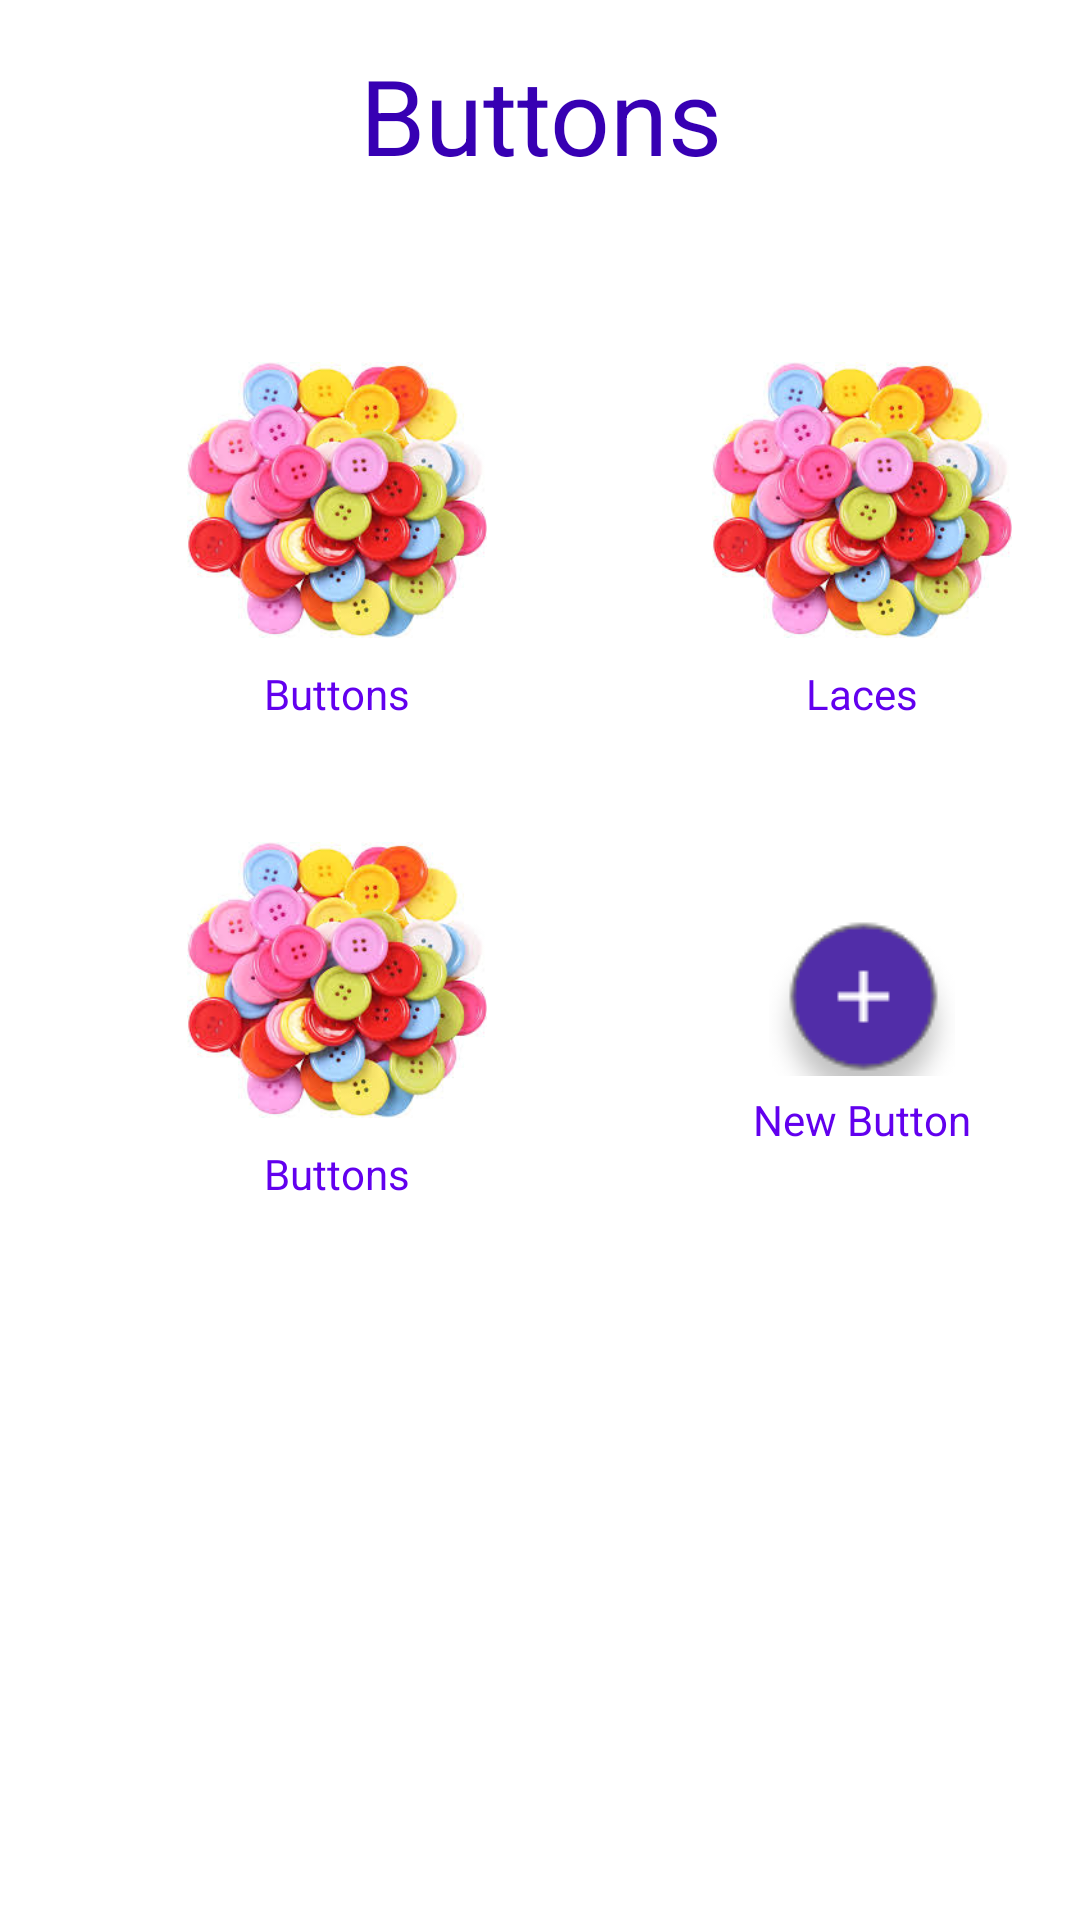

Named icons in this screenshot (1080×1920) and their centers, point (x, y):
fab: point (863, 999)
